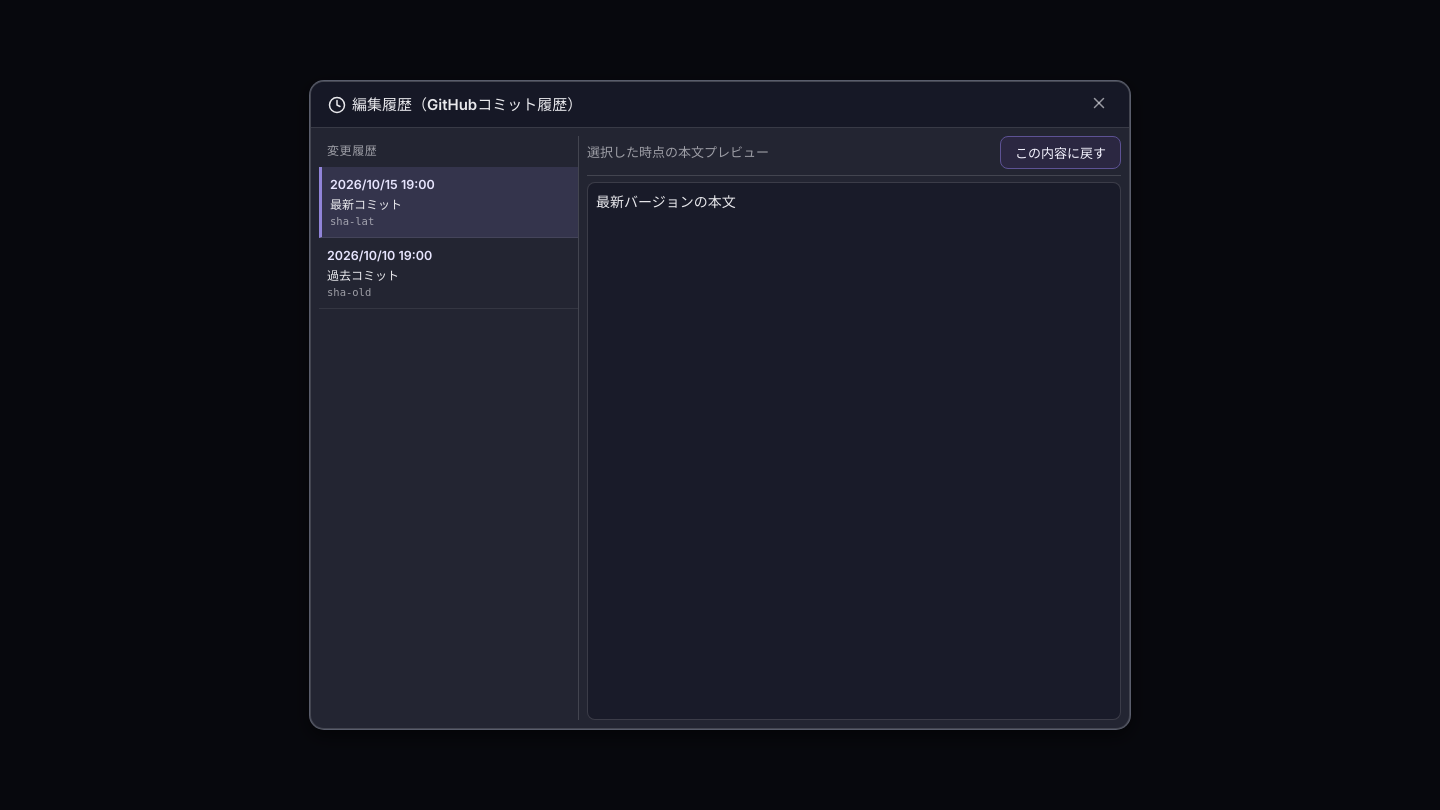
Test: HistoryPanel › fetches and displays commits and previews body of selected commit
Check: the text "最新コミット" is shown, box [330,195,402,212]
Check: the text box named "過去バージョンの本文" holds "最新バージョンの本文", box [587,182,1121,720]
// 過去コミットをクリックしてプレビュー切替
Click the text "過去コミット" at (363, 274), box [327,266,399,283]
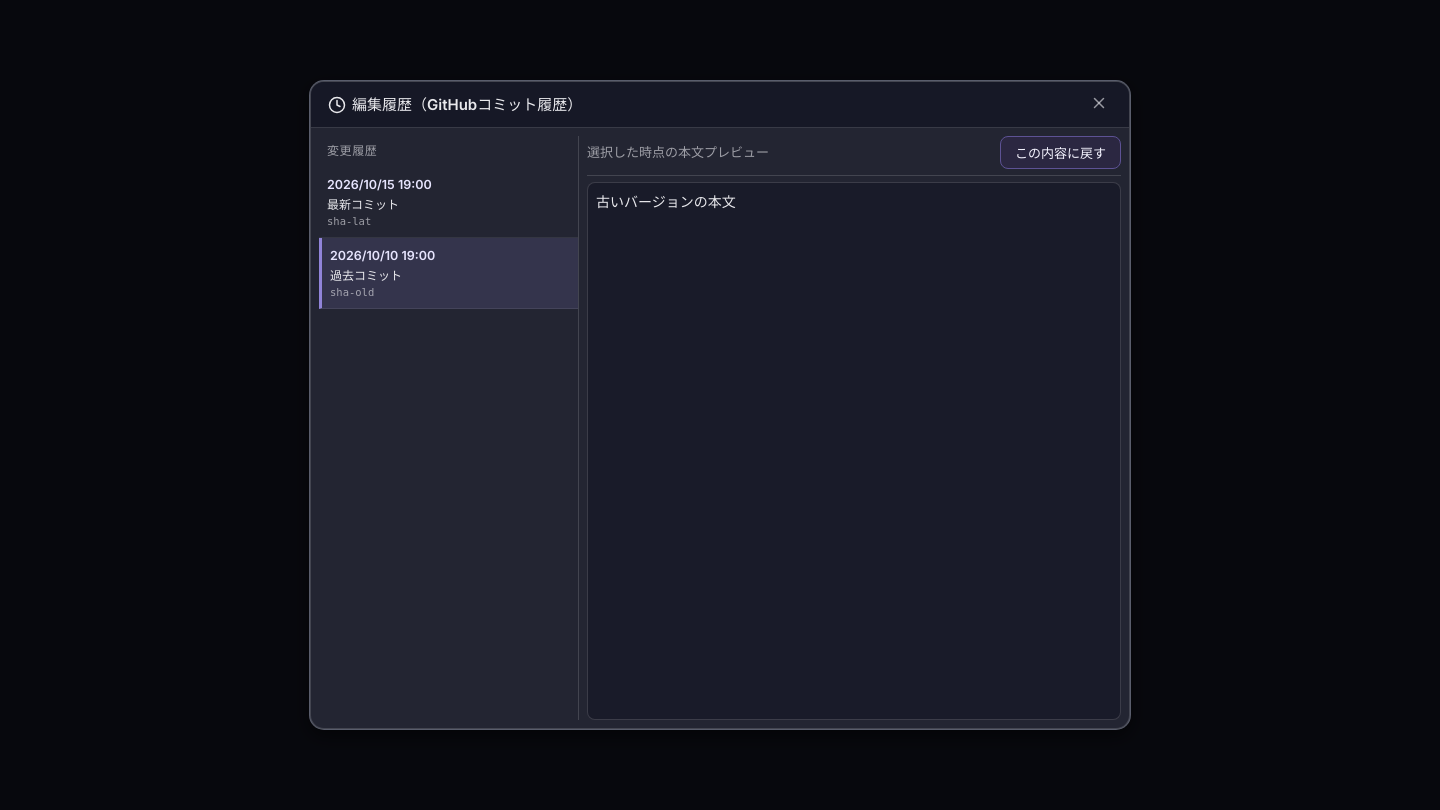
Check: the text box showing "古いバージョンの本文" is shown, box [587,182,1121,720]
